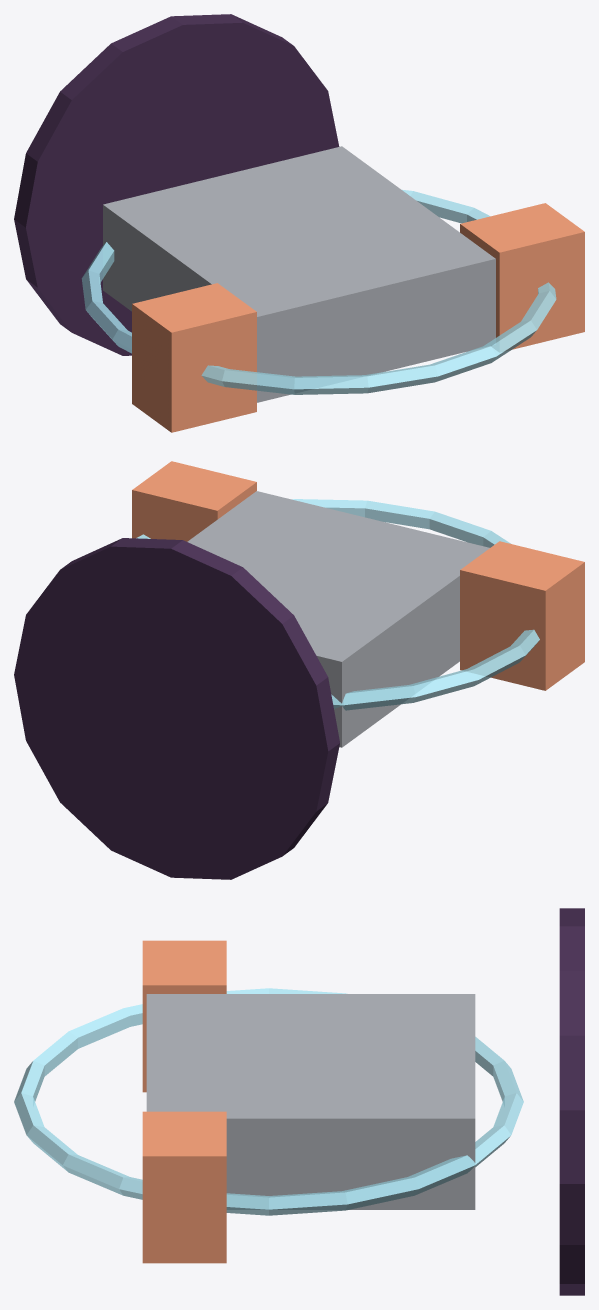
Rendered from 05_high_tier_magic_armor_aura.glb.
The picture shows the model from 3 angles, top to bottom: view 1: azimuth 30°, elevation 25°; view 2: azimuth 150°, elevation 25°; view 3: azimuth 270°, elevation 25°; orthographic projection. The views are drawn at different scales.
Visible parts, largest first — view 1: chest_plate_upgrade, armor_display_base, left_pauldron_upgrade, right_pauldron_upgrade, armor_barrier_ring; view 2: armor_display_base, chest_plate_upgrade, left_pauldron_upgrade, armor_barrier_ring, right_pauldron_upgrade; view 3: chest_plate_upgrade, armor_barrier_ring, right_pauldron_upgrade, armor_display_base, left_pauldron_upgrade.
Boxes of the visible parts, x1,y1,x2,y2 form: chest_plate_upgrade: (103, 146, 495, 402); armor_display_base: (14, 14, 339, 355); left_pauldron_upgrade: (132, 283, 256, 432); right_pauldron_upgrade: (460, 203, 584, 351); armor_barrier_ring: (81, 189, 556, 394); armor_display_base: (14, 538, 339, 879); chest_plate_upgrade: (187, 491, 489, 747); left_pauldron_upgrade: (460, 541, 584, 690); armor_barrier_ring: (136, 499, 539, 710); right_pauldron_upgrade: (132, 461, 256, 541); chest_plate_upgrade: (146, 994, 475, 1209); armor_barrier_ring: (14, 988, 523, 1215); right_pauldron_upgrade: (142, 1111, 226, 1263); armor_display_base: (559, 908, 584, 1295); left_pauldron_upgrade: (142, 940, 226, 1092).
Bounding box in the file's own units: 1.21 × 0.92 × 1.36.
